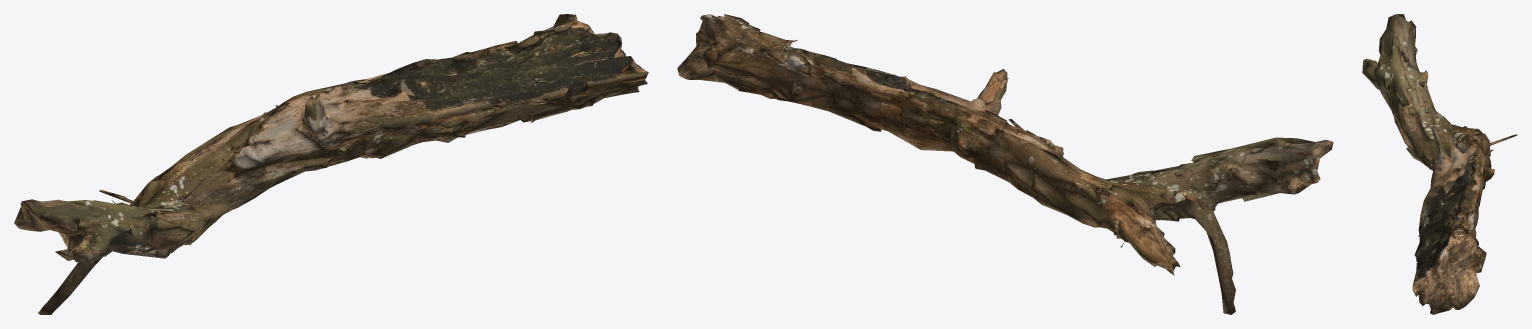
Rendered from dead_tree_trunk_02.glb.
3 renders of one model, left to right at view 1: azimuth 30°, elevation 25°; view 2: azimuth 150°, elevation 25°; view 3: azimuth 270°, elevation 25°, orthographic. The views are drawn at different scales.
Visible parts, largest first — view 1: dead_tree_trunk_02; view 2: dead_tree_trunk_02; view 3: dead_tree_trunk_02.
Boxes of the visible parts, box(x1,y1,x2,y2) form: dead_tree_trunk_02: box(14, 14, 648, 314); dead_tree_trunk_02: box(677, 14, 1333, 314); dead_tree_trunk_02: box(1362, 14, 1517, 314).
Bounding box in the file's own units: 4.05 × 1.05 × 1.05.
Materials: 1 (1 with a texture image).
